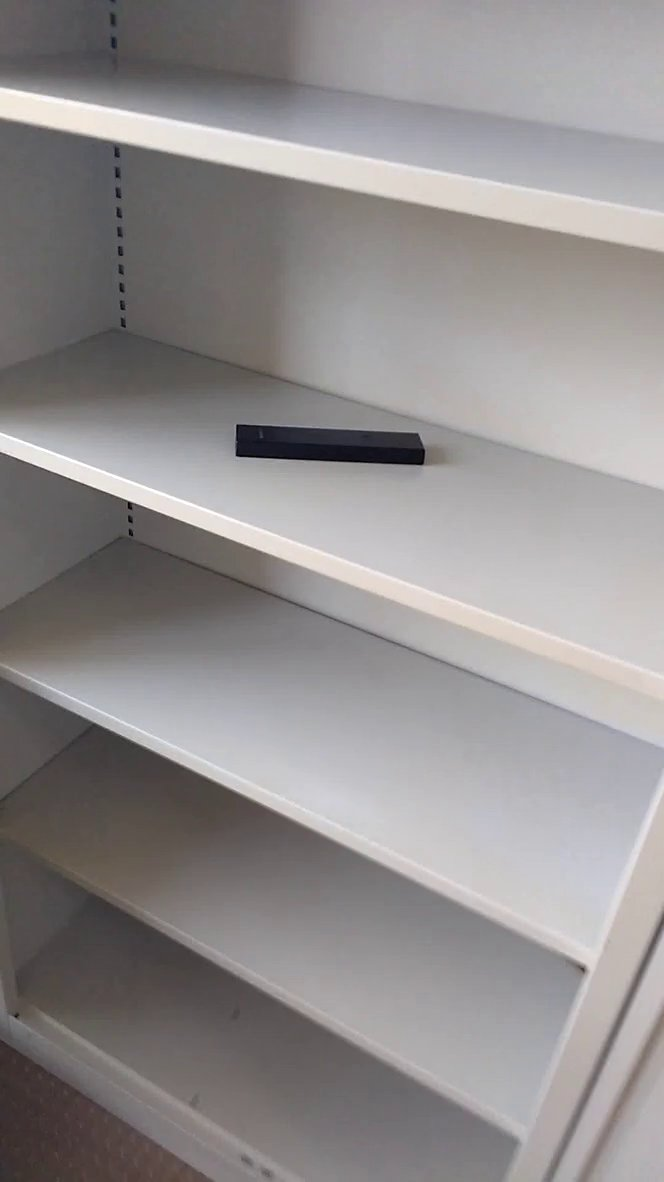remote: (227, 413, 448, 495)
